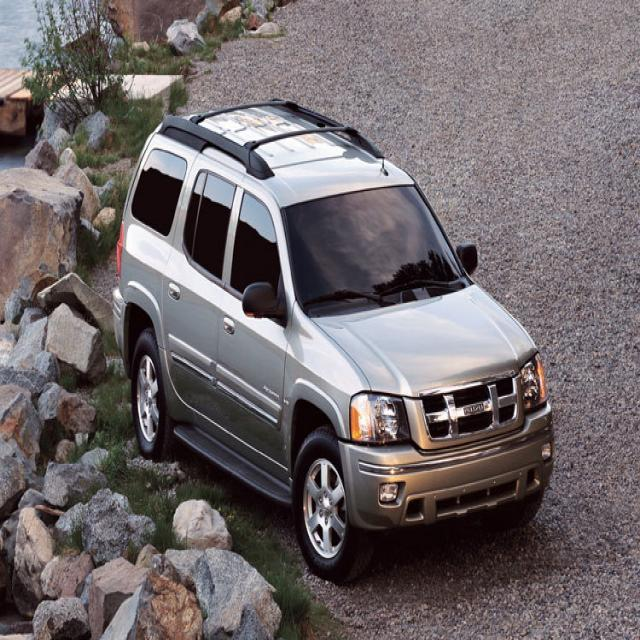Zeep: (110, 88, 557, 585)
